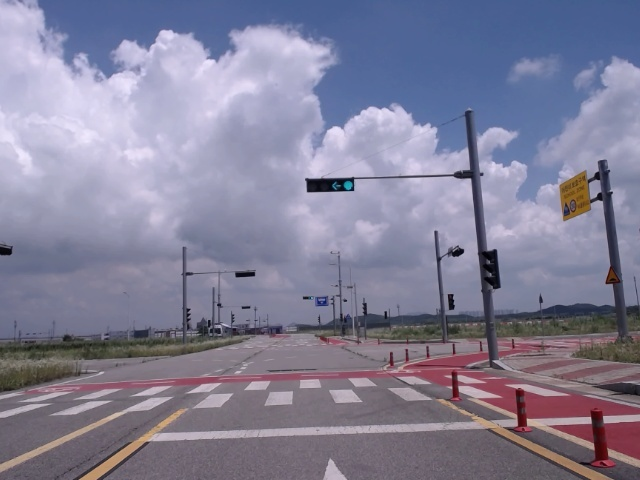all_green_4: (308, 180, 351, 190)
